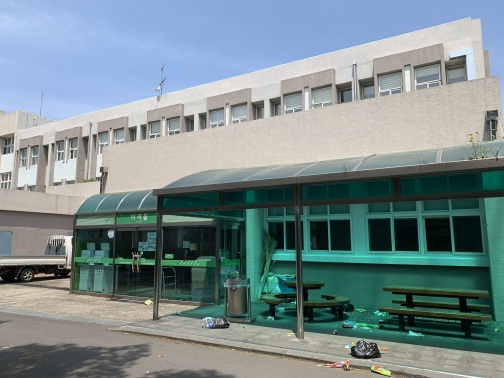Ara Hall: (67, 140, 504, 353)
